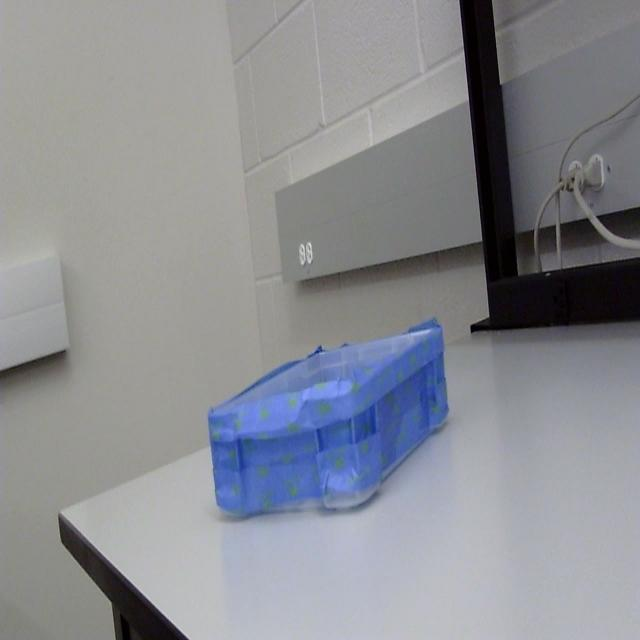bucket: (206, 311, 451, 523)
